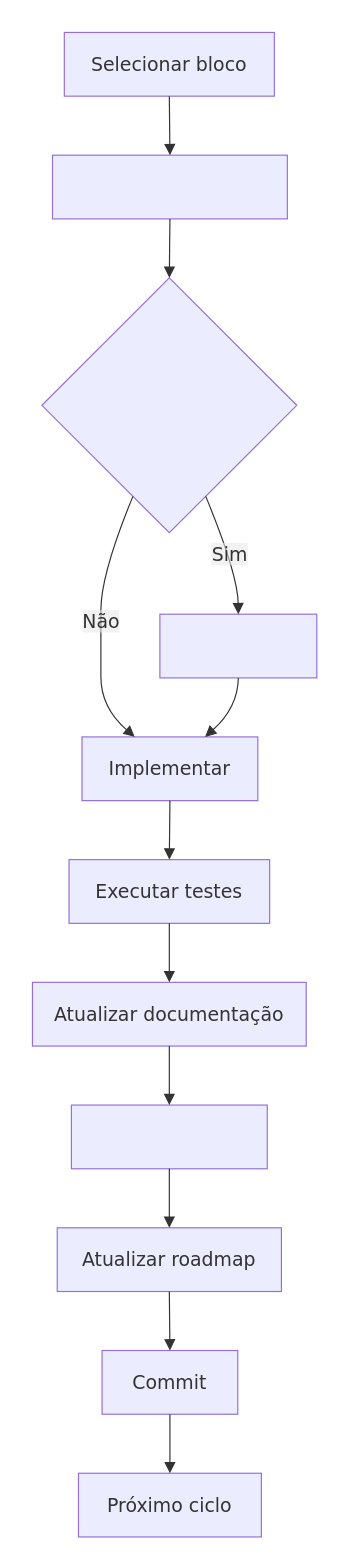
Some shapes in this 337 by 1558 pixel diagram are drawn without their labels. The shapes that lost their labels are listed below. From the top down, each one's box as (x1, y1, x2, y2) in pixels, then its label:
(51, 154, 287, 219): Analisar arquitetura
(41, 277, 297, 533): ADR necessário?
(159, 613, 317, 678): Criar ADR
(70, 1104, 267, 1169): Atualizar diário
